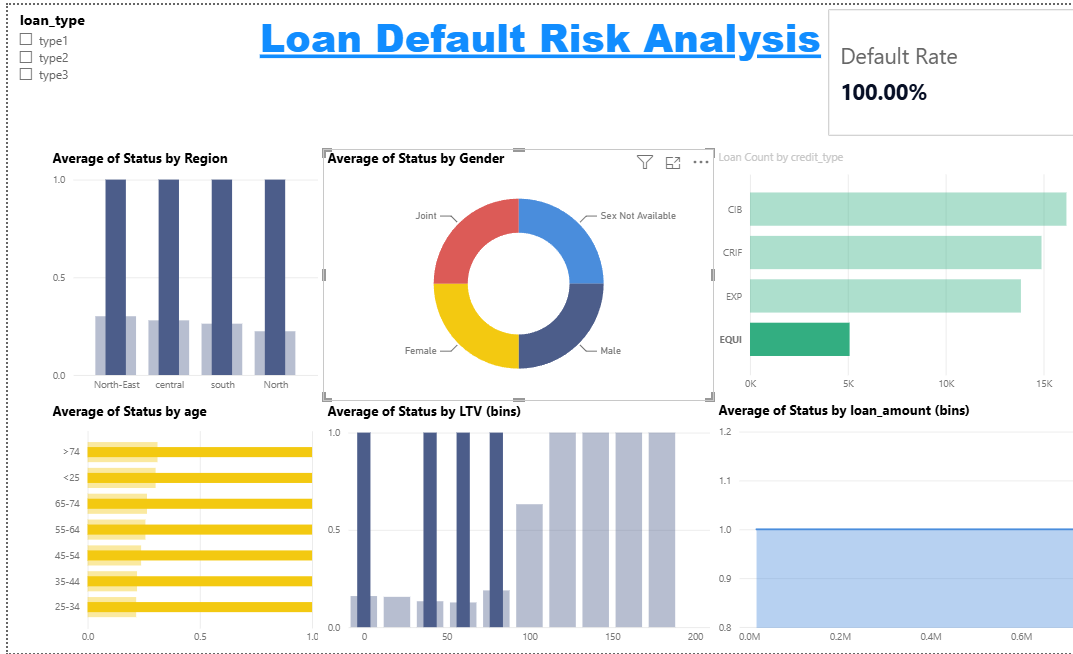

The dashboard page shown, as its layout file describes it:
{"tool":"powerbi","page":{"name":"Dashboard","canvas":[1280,720],"ordinal":0},"visuals":[{"type":"columnChart","fields":{"Category":["loan_sample.Region"],"Y":["Avg(loan_sample.Status)"]},"box":[44.7,160.5,305.4,280.1],"z":0},{"type":"clusteredBarChart","fields":{"Category":["loan_sample.age"],"Y":["Avg(loan_sample.Status)"]},"box":[44.7,440.6,305.4,279.1],"z":1000},{"type":"clusteredBarChart","fields":{"Category":["loan_sample.Gender"],"Y":["Avg(loan_sample.Status)"]},"box":[350.2,160.5,434.8,279.1],"z":2000},{"type":"donutChart","fields":{"Category":["loan_sample.loan_type"],"Y":["Avg(loan_sample.Status)"]},"box":[784.9,160.5,495.1,280.1],"z":3000},{"type":"clusteredColumnChart","fields":{"Y":["Avg(loan_sample.Status)"],"Category":["loan_sample.LTV (bins)"]},"box":[350.2,440.6,434.8,279.1],"z":4000},{"type":"areaChart","fields":{"Category":["loan_sample.loan_amount (bins)"],"Y":["Avg(loan_sample.Status)"]},"box":[784.9,439.6,459.1,280.1],"z":5000},{"type":"textbox","box":[146.3,0,889.8,71.4],"z":6000},{"type":"slicer","fields":{"Values":["loan_sample.loan_type"]},"box":[0,0,127.3,149.9],"z":6001},{"type":"cardVisual","fields":{"Data":["Table.Default Rate"]},"box":[906.7,0,365.6,150],"z":6002}]}

Visuals, with their boxes on the page's 1280x720 design canvas (x1, y1, x2, y2). These are canvas units, not pixel positions in the 1073x654 screenshot, which may show the page scaled, cropped or inside an application window:
columnChart - loan_sample.Region x Avg(loan_sample.Status): [45, 160, 350, 441]
clusteredBarChart - loan_sample.age x Avg(loan_sample.Status): [45, 441, 350, 720]
clusteredBarChart - loan_sample.Gender x Avg(loan_sample.Status): [350, 160, 785, 440]
donutChart - loan_sample.loan_type x Avg(loan_sample.Status): [785, 160, 1280, 441]
clusteredColumnChart - Avg(loan_sample.Status) x loan_sample.LTV (bins): [350, 441, 785, 720]
areaChart - loan_sample.loan_amount (bins) x Avg(loan_sample.Status): [785, 440, 1244, 720]
textbox: [146, 0, 1036, 71]
slicer - loan_sample.loan_type: [0, 0, 127, 150]
cardVisual - Table.Default Rate: [907, 0, 1272, 150]
